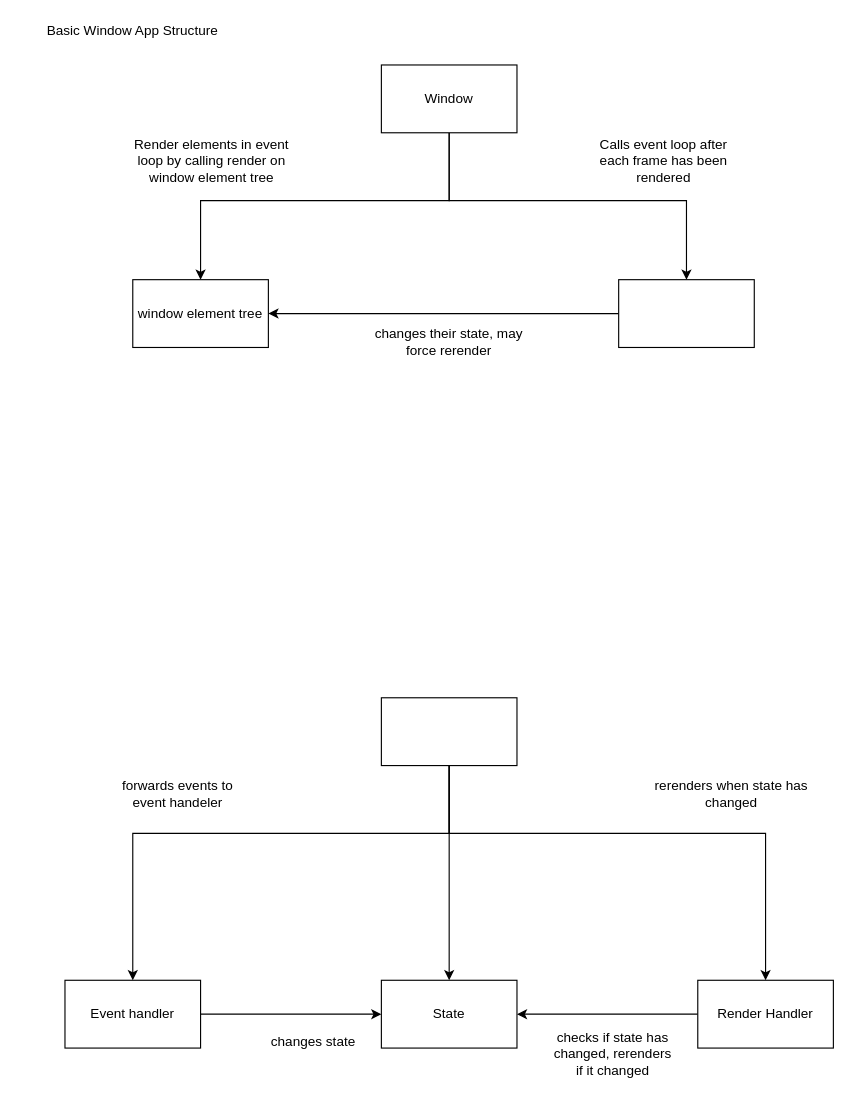
Image size: 853x1101. Some labels were removed from this diagram. Here are the shapes that lost their labels. From the top down, the centre of each, then its label:
At point 686,313: "event loop".
At point 448,731: "Window element".
